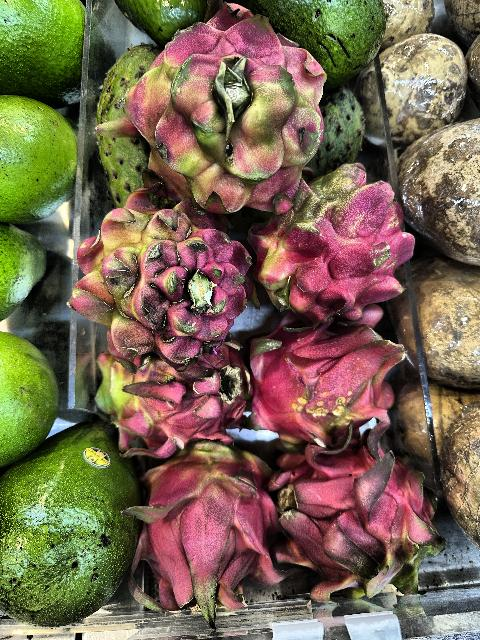buah-naga-belum-matang: (108, 1, 324, 219), (266, 443, 448, 609), (248, 159, 414, 337), (76, 198, 255, 360), (132, 441, 284, 631), (84, 341, 254, 454), (250, 330, 410, 444)
